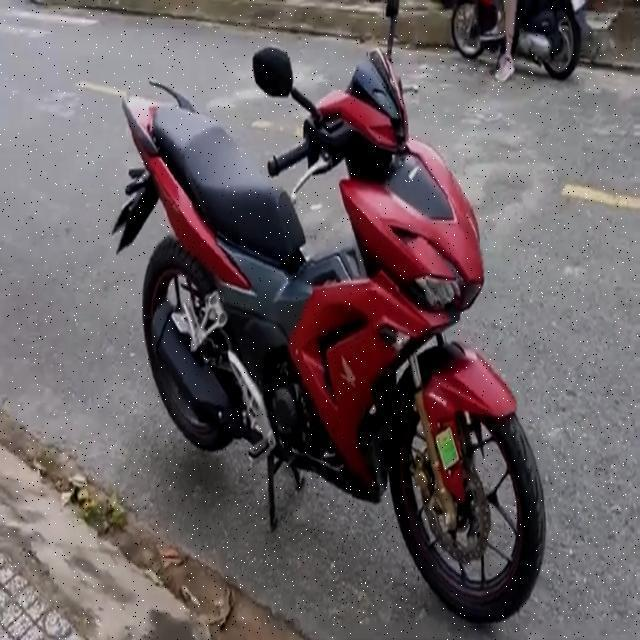motorcycle: (105, 0, 553, 631), (441, 0, 611, 83)
